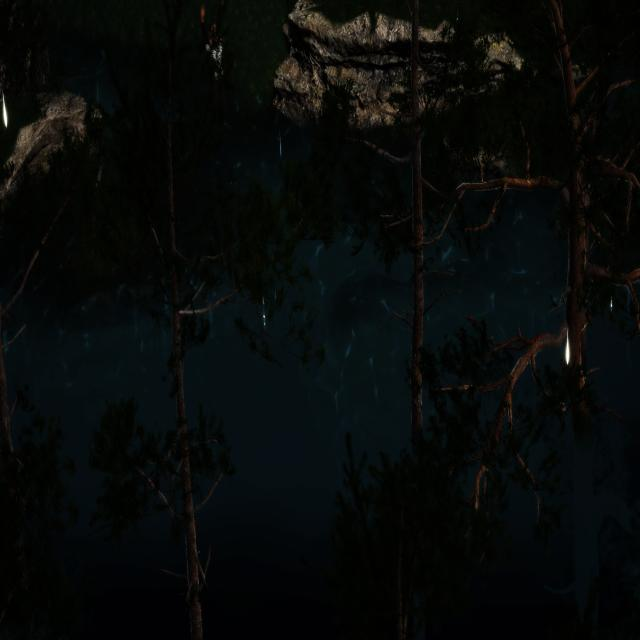Human: (201, 16, 228, 166)
